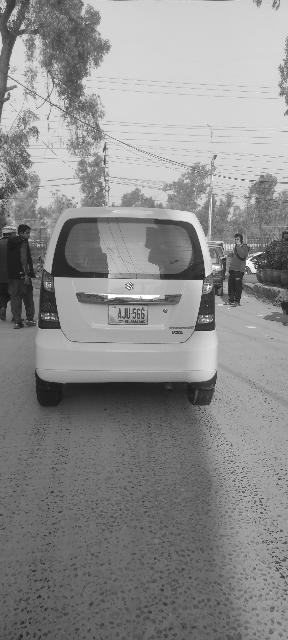Number: (118, 306, 146, 320)
